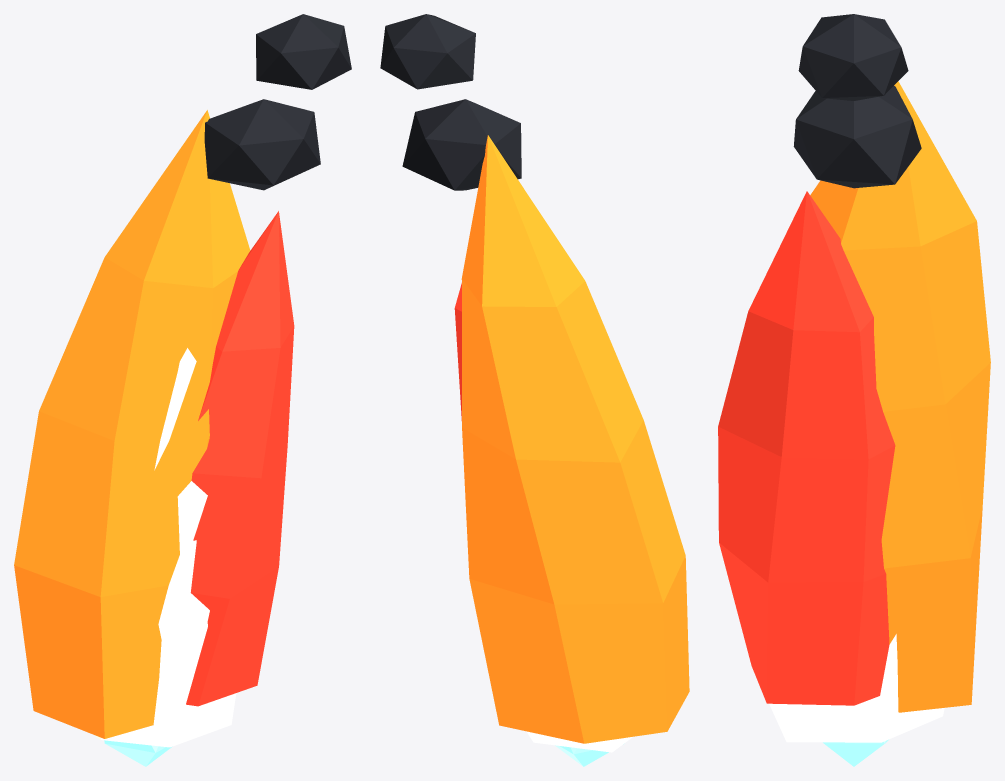
File: fx_fire_refinery_flare.glb
The picture shows the model from 3 angles, left to right: view 1: azimuth 30°, elevation 25°; view 2: azimuth 150°, elevation 25°; view 3: azimuth 270°, elevation 25°; orthographic projection. The views are drawn at different scales.
Parts seen in each view (by area): view 1: fx_fire_refinery_flare_flare_orange, fx_fire_refinery_flare_flare_red, fx_fire_refinery_flare_flare_soot, fx_fire_refinery_flare_flare_core, fx_fire_refinery_flare_flare_blue; view 2: fx_fire_refinery_flare_flare_orange, fx_fire_refinery_flare_flare_soot, fx_fire_refinery_flare_flare_core, fx_fire_refinery_flare_flare_red, fx_fire_refinery_flare_flare_blue; view 3: fx_fire_refinery_flare_flare_red, fx_fire_refinery_flare_flare_orange, fx_fire_refinery_flare_flare_soot, fx_fire_refinery_flare_flare_core, fx_fire_refinery_flare_flare_blue.
Boxes of the visible parts, x1=… form: fx_fire_refinery_flare_flare_orange: x1=14, y1=110, x2=250, y2=738; fx_fire_refinery_flare_flare_red: x1=186, y1=211, x2=294, y2=706; fx_fire_refinery_flare_flare_soot: x1=204, y1=14, x2=351, y2=190; fx_fire_refinery_flare_flare_core: x1=94, y1=348, x2=236, y2=747; fx_fire_refinery_flare_flare_blue: x1=104, y1=740, x2=172, y2=766; fx_fire_refinery_flare_flare_orange: x1=461, y1=135, x2=689, y2=743; fx_fire_refinery_flare_flare_soot: x1=380, y1=14, x2=521, y2=190; fx_fire_refinery_flare_flare_core: x1=526, y1=731, x2=632, y2=752; fx_fire_refinery_flare_flare_red: x1=454, y1=283, x2=461, y2=420; fx_fire_refinery_flare_flare_blue: x1=555, y1=743, x2=624, y2=766; fx_fire_refinery_flare_flare_red: x1=718, y1=191, x2=895, y2=705; fx_fire_refinery_flare_flare_orange: x1=810, y1=81, x2=990, y2=712; fx_fire_refinery_flare_flare_soot: x1=793, y1=14, x2=921, y2=188; fx_fire_refinery_flare_flare_core: x1=769, y1=634, x2=944, y2=742; fx_fire_refinery_flare_flare_blue: x1=823, y1=739, x2=888, y2=766.
Size of the model in its own units: 0.6179 by 1.39 by 0.4067.
